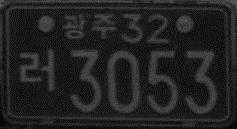0: (105, 49, 141, 113)
2: (146, 13, 169, 46)
3: (69, 48, 102, 112), (183, 49, 216, 113), (119, 12, 143, 42)
5: (145, 49, 179, 115)
광주_O: (62, 12, 118, 40)
러: (17, 48, 56, 95)
